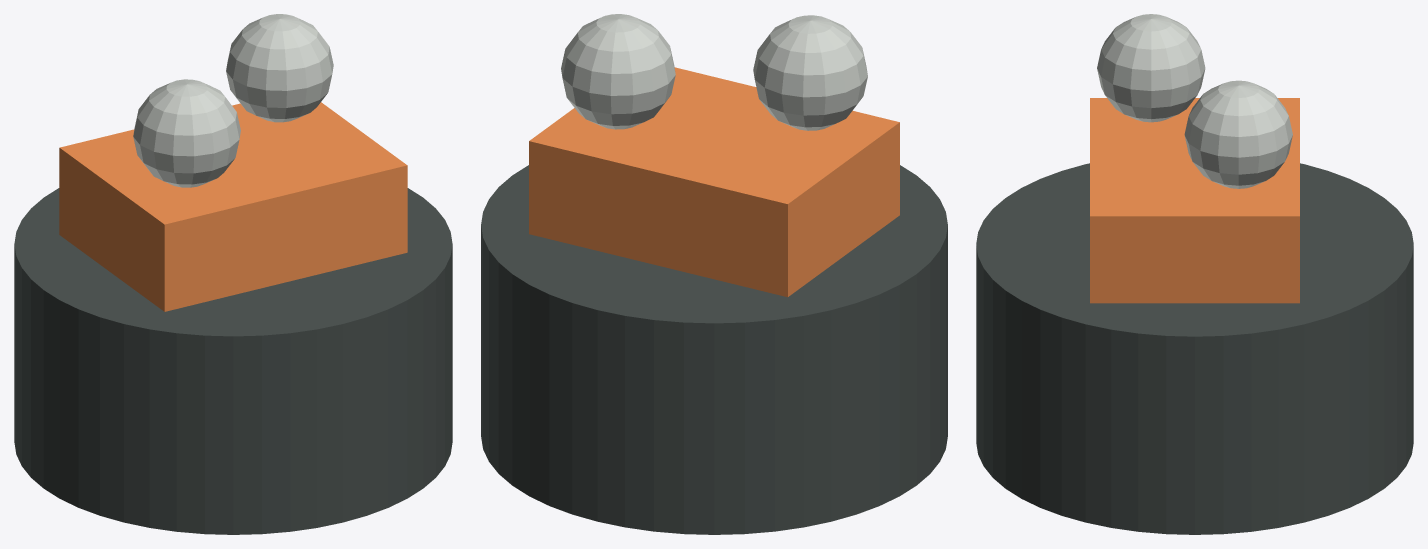
The picture shows the model from 3 angles, left to right: view 1: azimuth 30°, elevation 25°; view 2: azimuth 150°, elevation 25°; view 3: azimuth 270°, elevation 25°; orthographic projection. The views are drawn at different scales.
Visible parts, largest first — view 1: Object marker centre; view 2: Object marker centre; view 3: Object marker centre.
Boxes of the visible parts, box(x1,y1,x2,y2) form: Object marker centre: box(14, 14, 452, 534); Object marker centre: box(481, 14, 947, 534); Object marker centre: box(976, 14, 1413, 534).
Bounding box in the file's own units: 0.05 × 0.0492 × 0.05.
